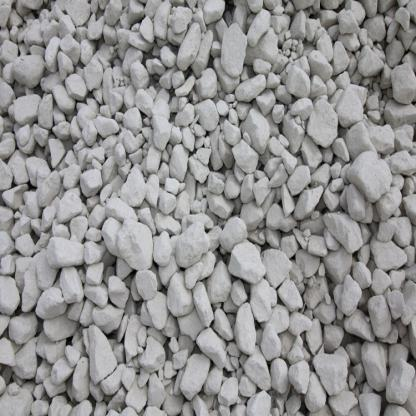Sedimentary_Chalk: (85, 318, 121, 388), (304, 92, 341, 150), (112, 223, 156, 269), (350, 152, 390, 200), (326, 206, 362, 256), (309, 344, 346, 392), (220, 20, 248, 82), (178, 353, 213, 402), (176, 18, 206, 72), (174, 224, 209, 270), (226, 237, 259, 281), (331, 269, 362, 315), (34, 164, 64, 210), (264, 246, 295, 290), (10, 52, 50, 86), (46, 232, 86, 266), (232, 303, 258, 351), (166, 272, 192, 320), (193, 99, 226, 134), (227, 136, 258, 173), (34, 283, 69, 314), (83, 50, 104, 100), (9, 96, 48, 122), (258, 25, 281, 63), (79, 165, 105, 196), (82, 112, 102, 152), (153, 100, 169, 150), (128, 56, 148, 95), (113, 140, 129, 164)
